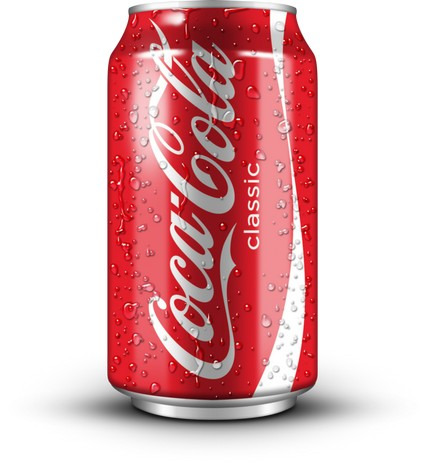coke: (105, 1, 321, 420)
